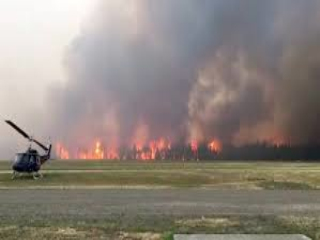fire: (50, 131, 229, 168)
smoke: (30, 20, 304, 123)
